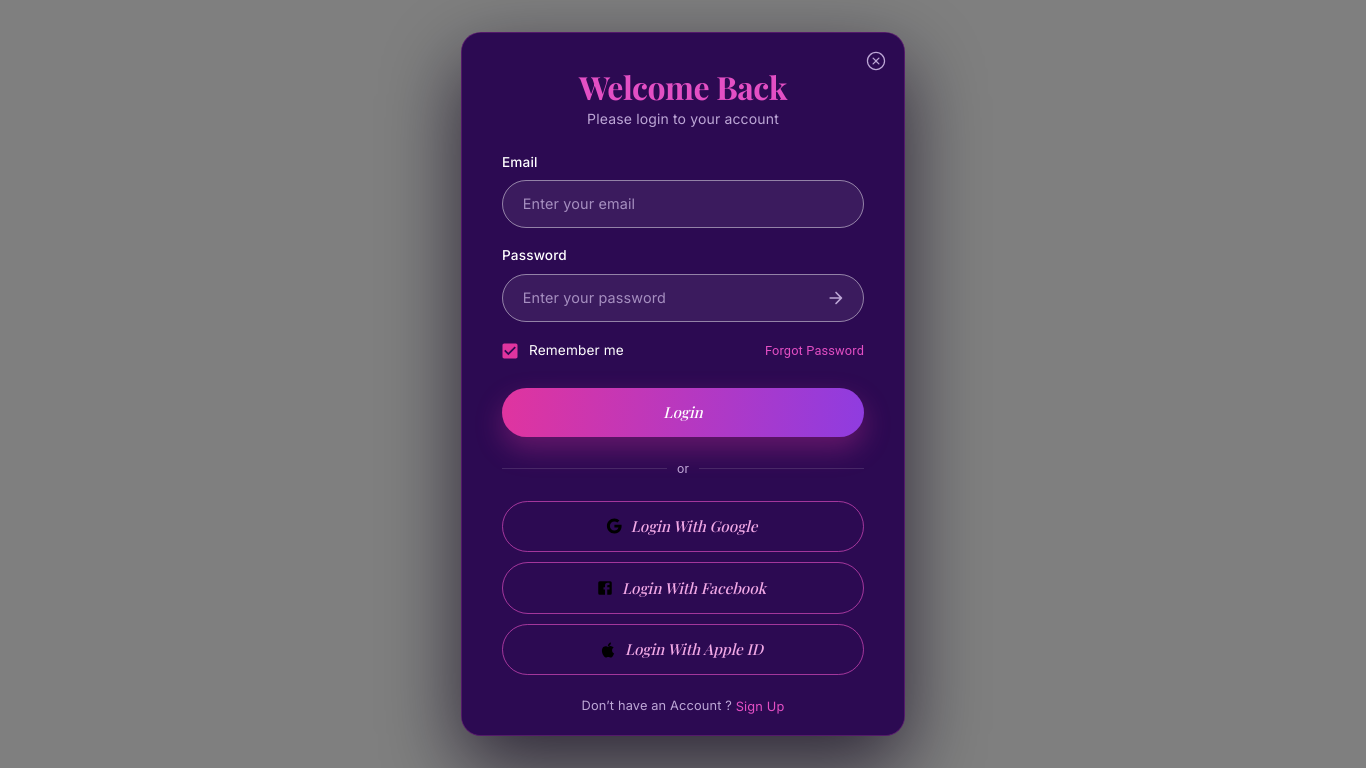
Test: when a sign-in fails › says one honest sentence for anything it did not expect
This screenshot has width=1366, height=768.
In the field labelled "Email": {"x": 683, "y": 204} [502,180,864,228], type "member@example.test"
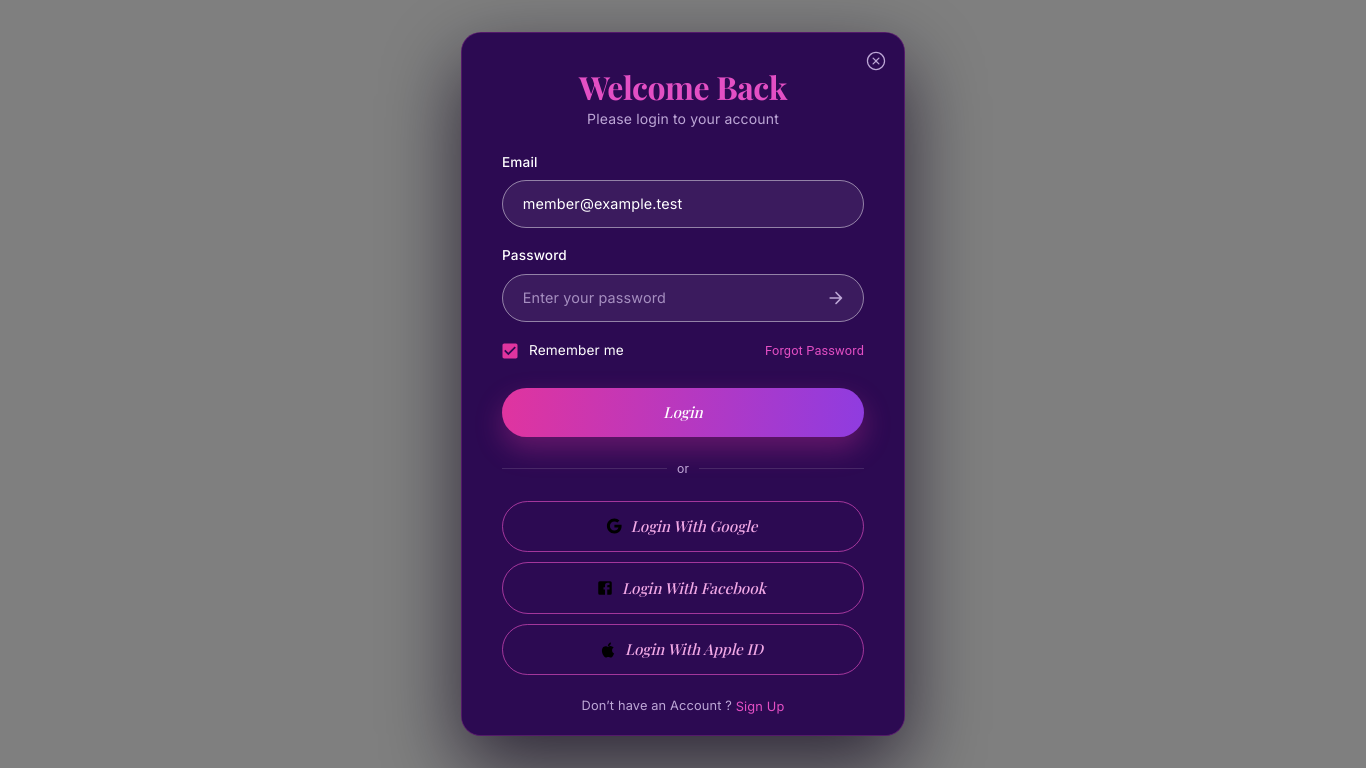
In the password field labelled "Password": {"x": 656, "y": 298} [502,274,810,322], type "a-password"
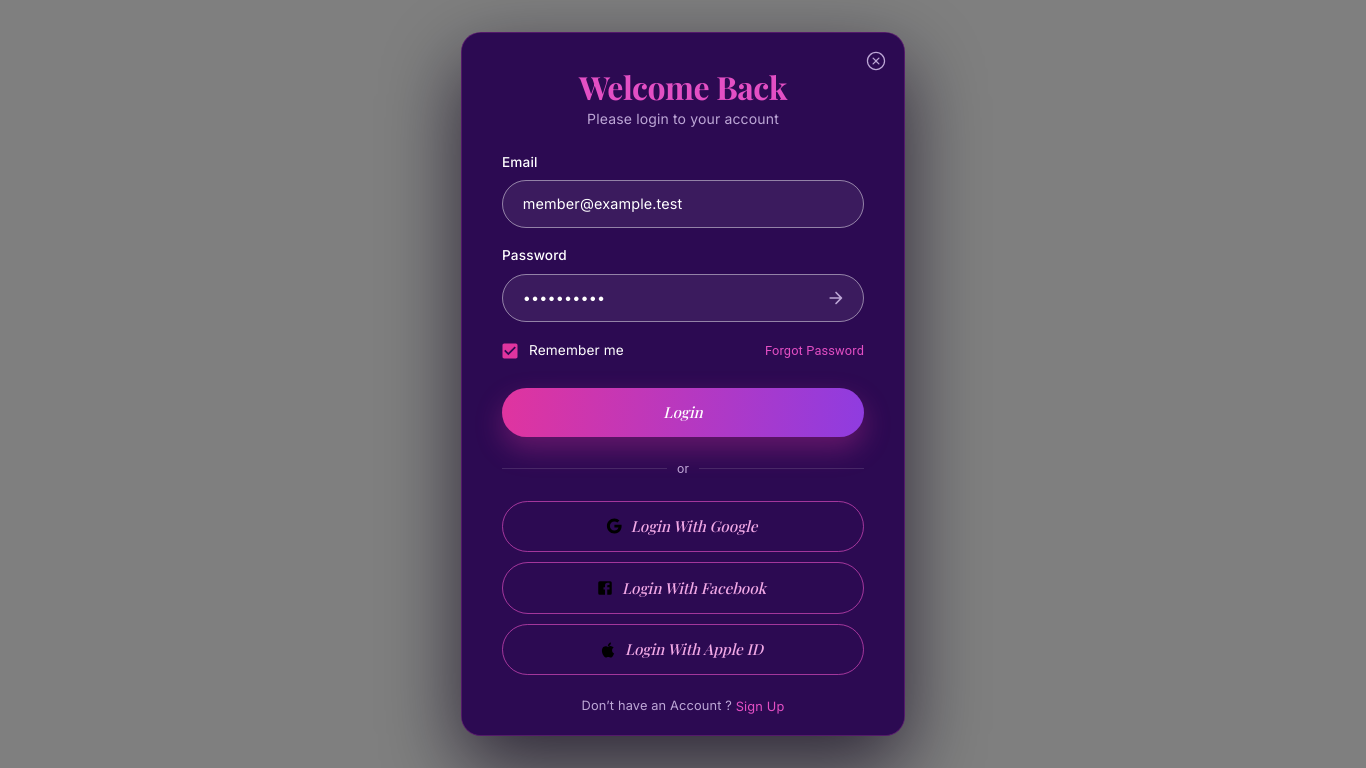
Click the button "Login": {"x": 683, "y": 412} [502,388,864,437]
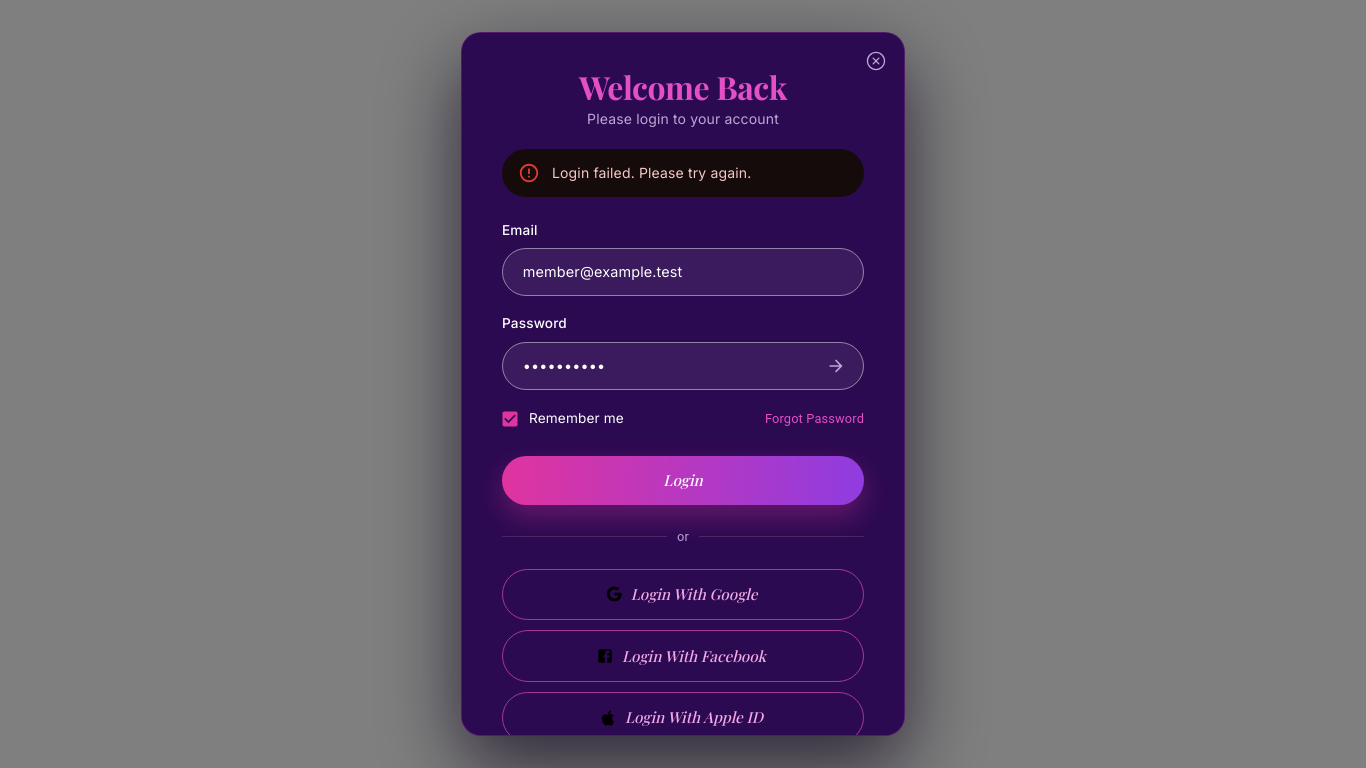
Expected: the message reads "Login failed. Please try again.", [552,164,751,181]
